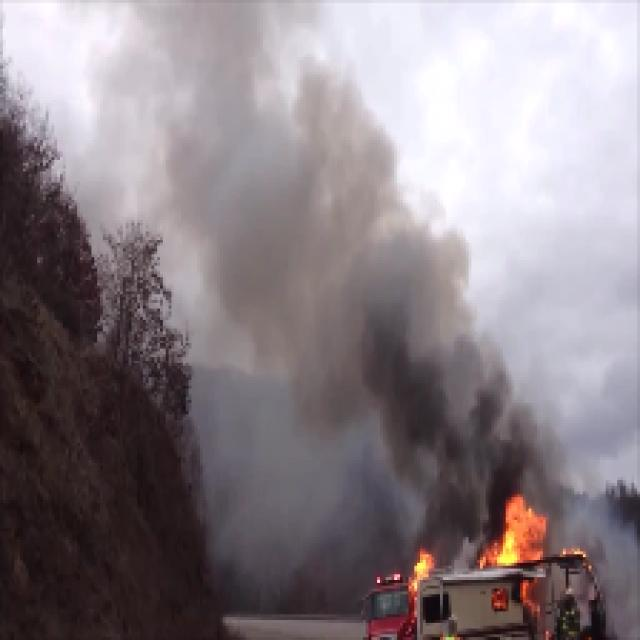fire: (481, 502, 549, 564)
smoke: (89, 4, 352, 230), (293, 235, 521, 488)
